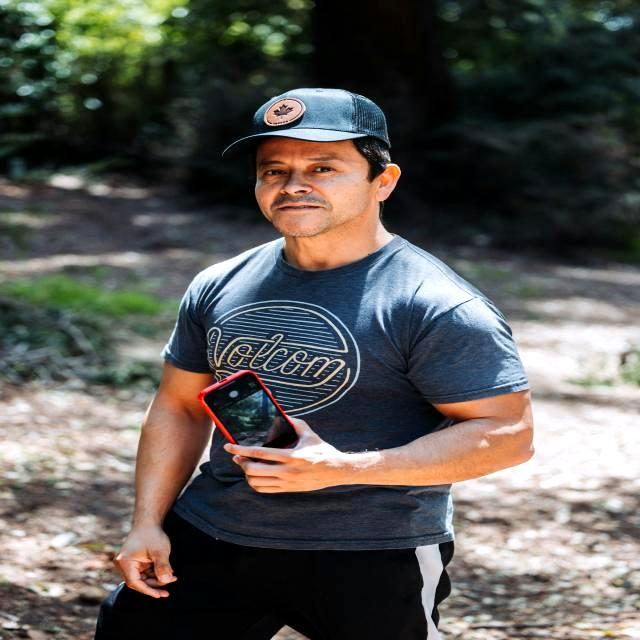no_hard_hat: (223, 88, 390, 157)
person: (117, 89, 534, 640)
